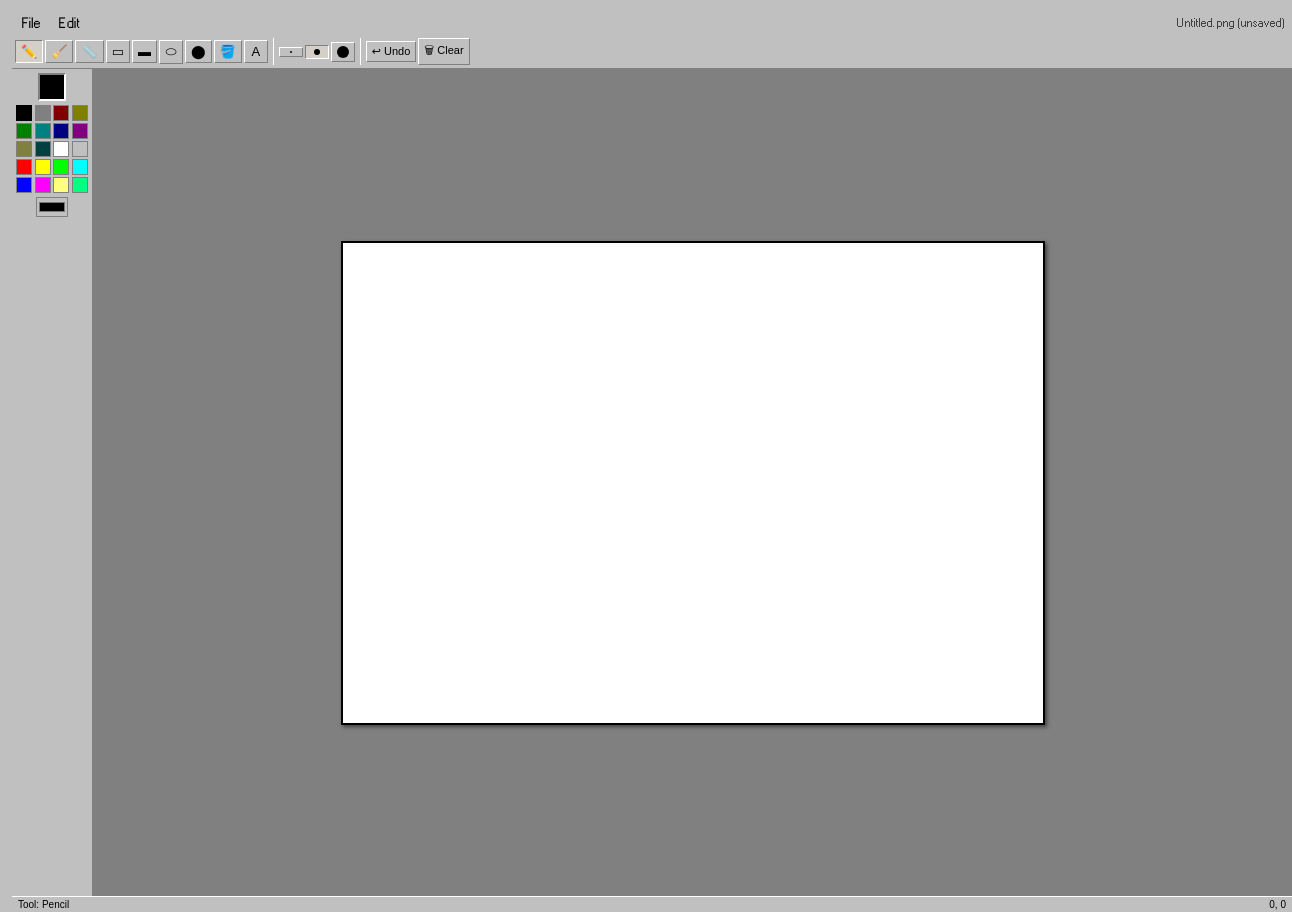
Test: Paint text tool › Enter stamps the text onto the canvas at that spot in the chosen colour
Click the button named "Text" at point(256, 52), box [244, 40, 268, 63]
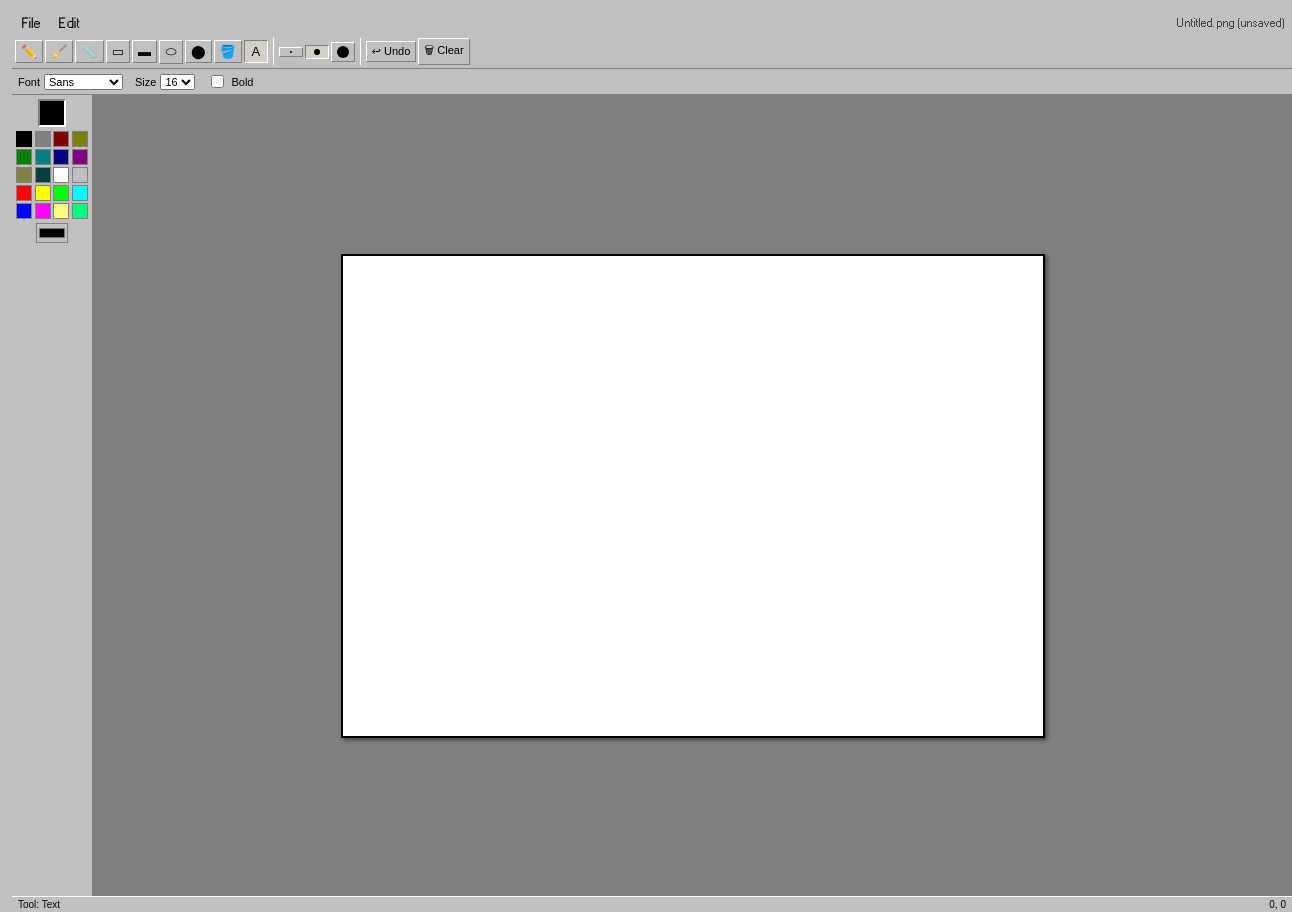
Click the button titled "#ff0000" at point(24, 193), box [16, 185, 32, 201]
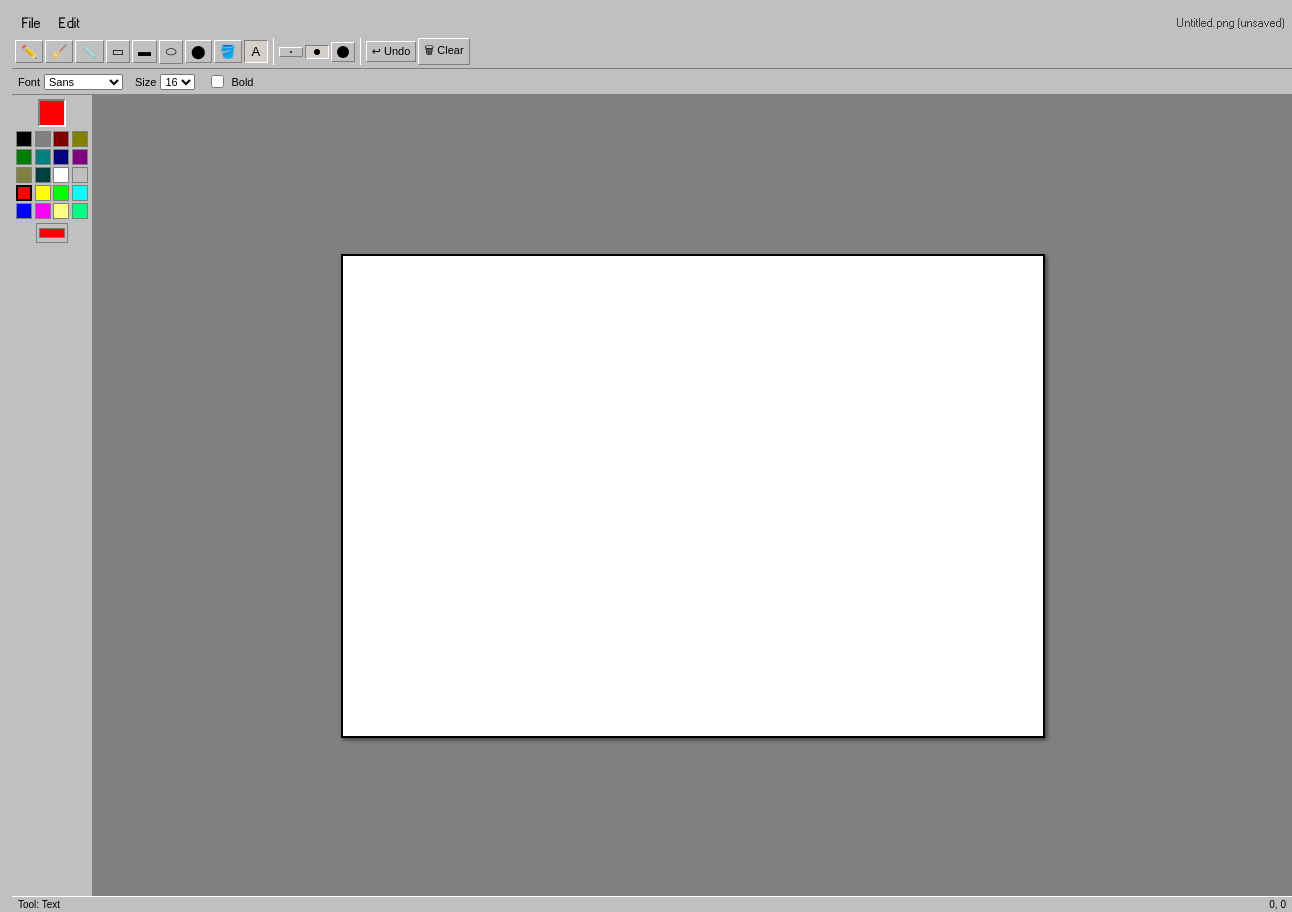
Press the mouse on the 2nd drawing at point(692, 496), box [340, 254, 1044, 738]
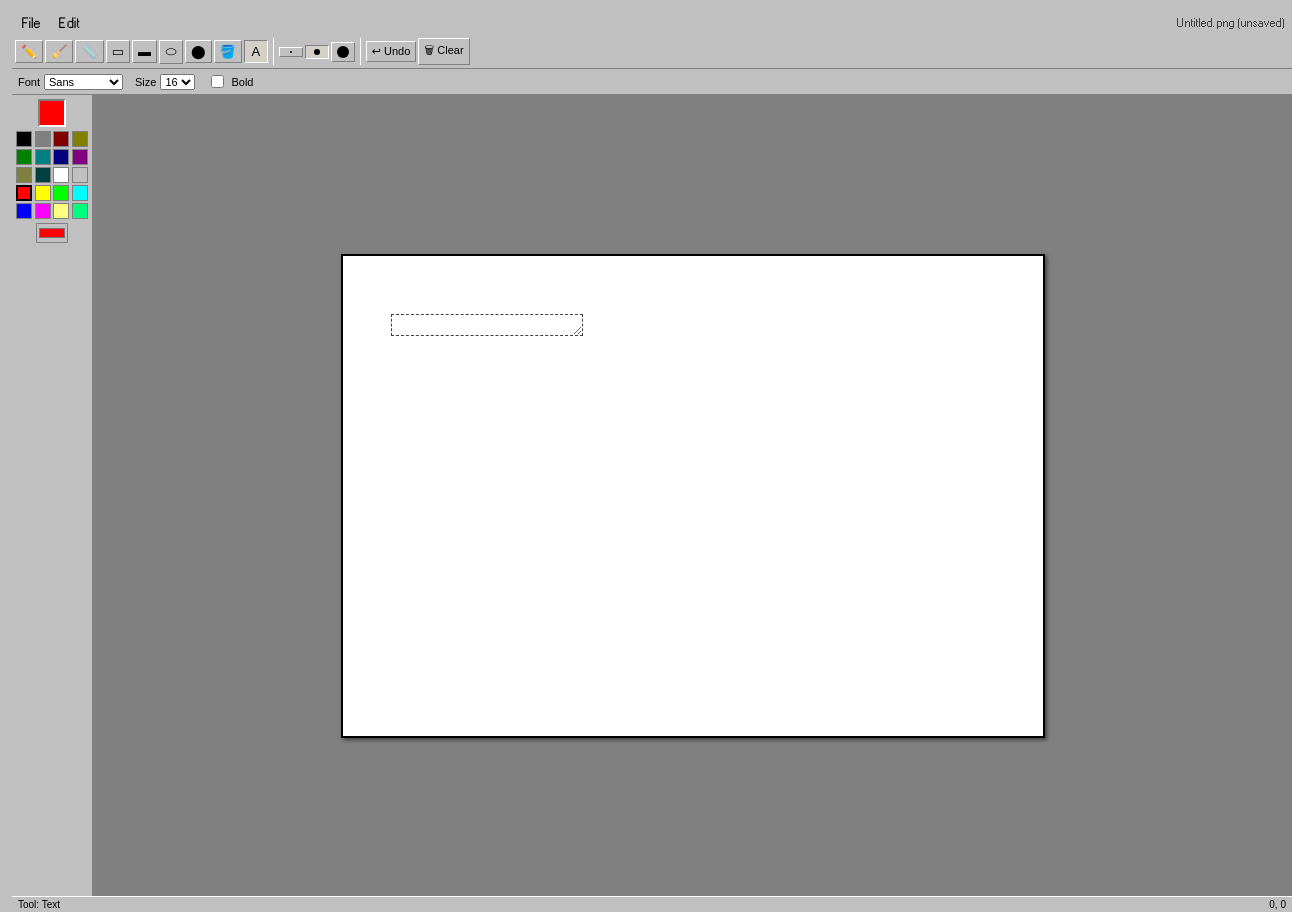
Type "Hello" into the text box named "Text" at point(486, 325), box [390, 314, 582, 336]
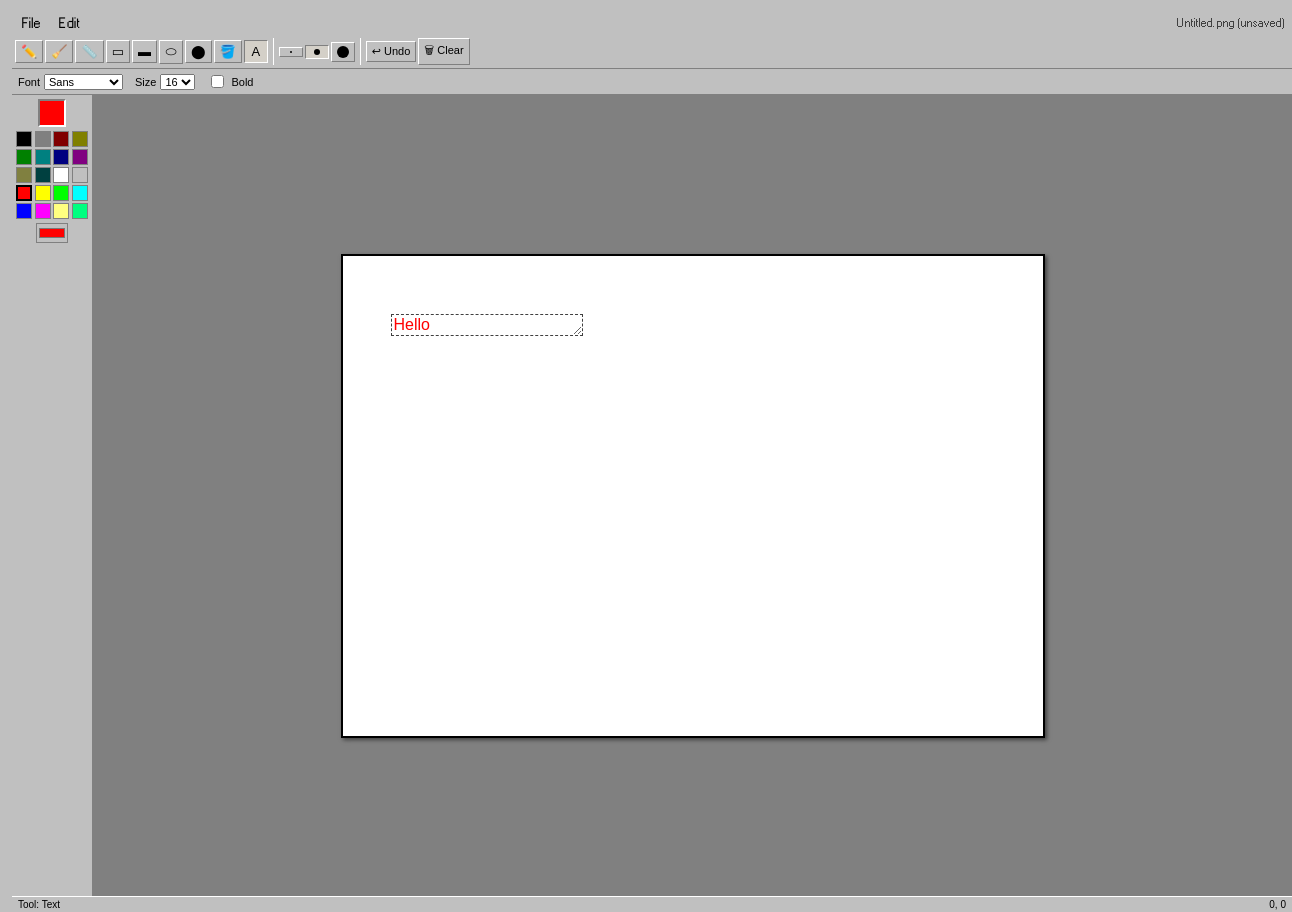
Press Enter in the text box named "Text", box [390, 314, 582, 336]
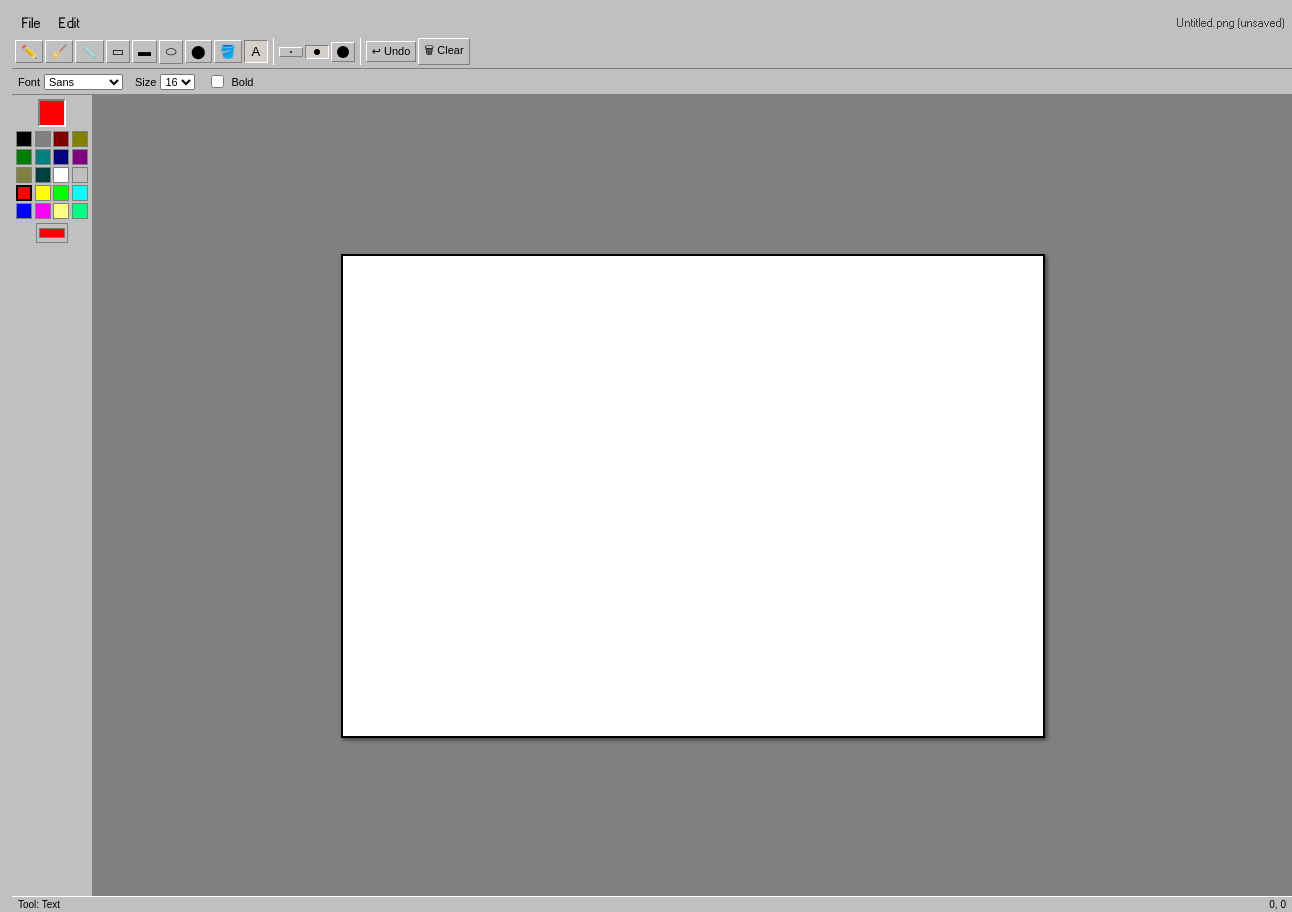
expect the text box is gone: met
